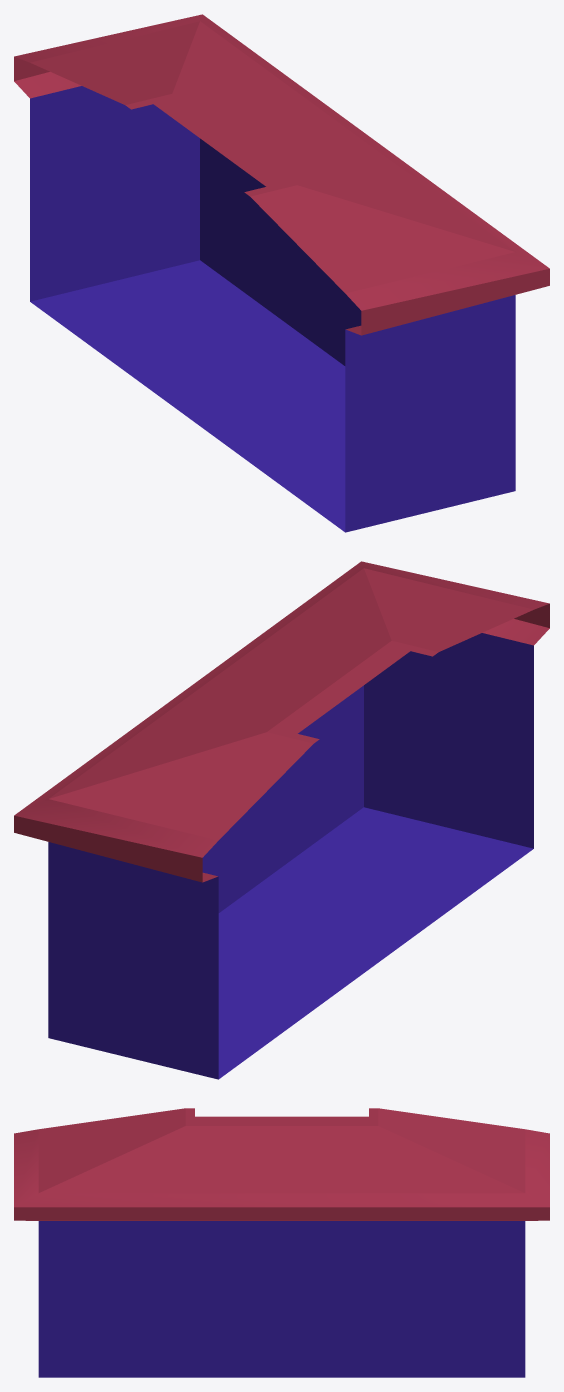
File: Nachbarhaus_1.fbx
3 views of the same model, one above another, from view 1: azimuth 30°, elevation 25°; view 2: azimuth 150°, elevation 25°; view 3: azimuth 270°, elevation 25° (orthographic). The views are drawn at different scales.
Parts seen in each view (by area): view 1: Nachbarhaus_1; view 2: Nachbarhaus_1; view 3: Nachbarhaus_1.
Part boxes in pixels (x1,y1,x2,y2): Nachbarhaus_1: (14, 14, 549, 532); Nachbarhaus_1: (14, 561, 549, 1079); Nachbarhaus_1: (14, 1108, 549, 1377).
Size of the model in its own units: 242 by 326 by 771.
